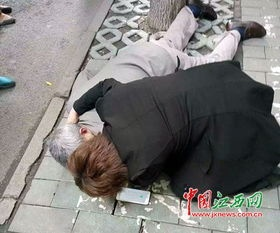falling: (56, 55, 274, 204)
